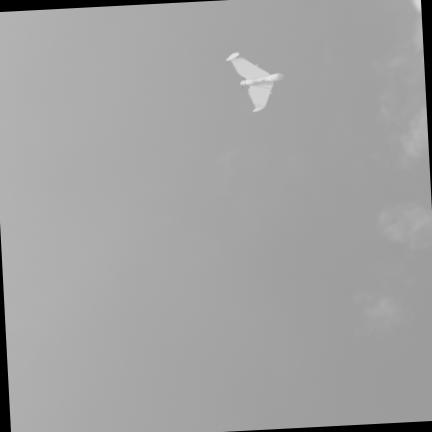Shahed: (227, 52, 283, 110)
